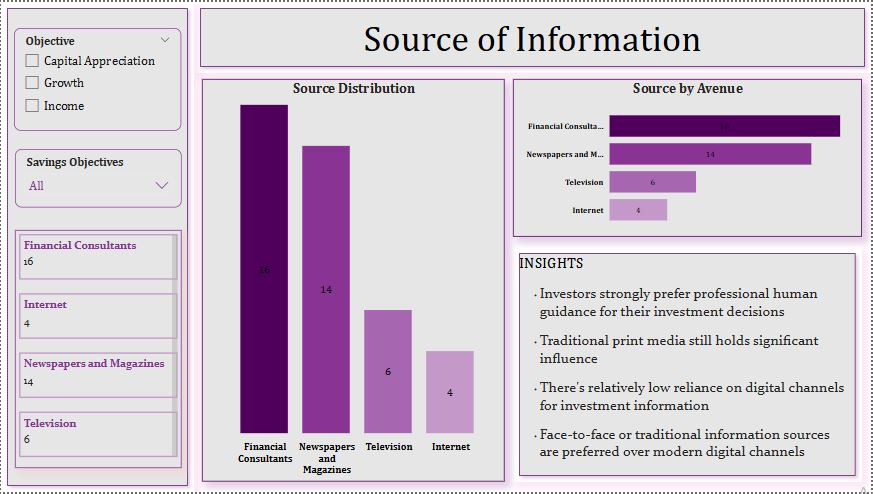

The dashboard page shown, as its layout file describes it:
{"tool":"powerbi","page":{"name":"Task 6","canvas":[1280,720],"ordinal":5},"visuals":[{"type":"shape","box":[0,0,283.8,720.6],"z":0},{"type":"shape","box":[283.8,0,995.6,104.4],"z":1000},{"type":"columnChart","title":"Source Distribution","fields":{"Category":["Data_set 2.Source"],"Y":["CountNonNull(Data_set 2.Source)"],"Series":["Data_set 2.Source"]},"box":[295.2,113.8,445,591.8],"z":2000},{"type":"slicer","fields":{"Values":["Data_set 2.Objective"]},"box":[19.1,38.2,245.6,151.5],"z":3000},{"type":"multiRowCard","title":"Investors","fields":{"Values":["Data_set 2.Source","Data_set 2.gender"]},"box":[20.2,335.5,244.8,349.9],"z":4000},{"type":"slicer","fields":{"Values":["Data_set 2.What are your savings objectives?"]},"box":[20.2,216,244.8,86.4],"z":5000},{"type":"barChart","title":"Source by Avenue","fields":{"Category":["Data_set 2.Source"],"Y":["CountNonNull(Data_set 2.Avenue)"]},"box":[753.1,113.8,512.6,231.8],"z":6000},{"type":"shape","box":[753.1,360,512.6,345.6],"z":7000},{"type":"textbox","box":[769,410.4,483.8,275],"z":8000}]}

Visuals, with their boxes in screenshot pixels (x1, y1, x2, y2), scaled from the page's 1280x720 canvas onto the 873x494 screenshot:
shape: 0, 0, 194, 493
shape: 194, 0, 872, 72
"Source Distribution" columnChart: 201, 78, 505, 484
slicer - Data_set 2.Objective: 13, 26, 181, 130
"Investors" multiRowCard: 14, 230, 181, 470
slicer - Data_set 2.What are your savings objectives?: 14, 148, 181, 207
"Source by Avenue" barChart: 514, 78, 863, 237
shape: 514, 247, 863, 484
textbox: 524, 282, 854, 470
